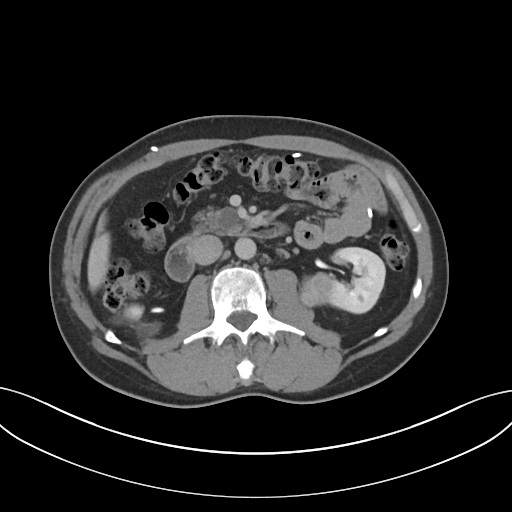Lesion: (294, 273, 339, 316)
